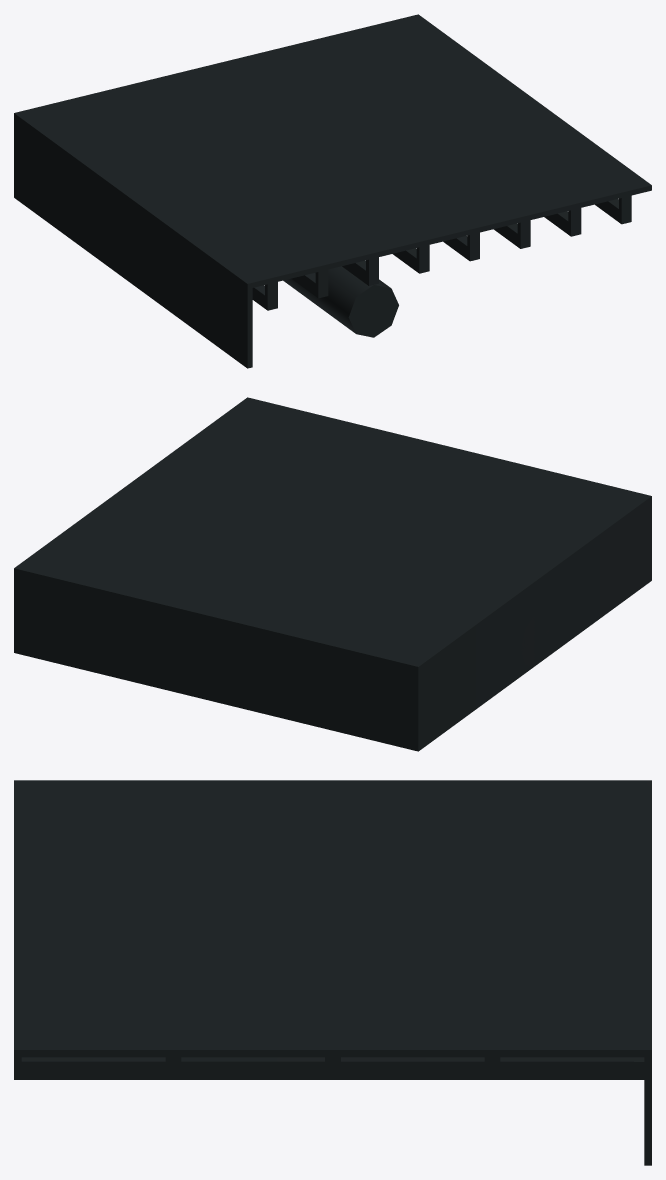
The model's file is Roof_Corner_Alt.glb.
The picture shows the model from 3 angles, top to bottom: view 1: azimuth 30°, elevation 25°; view 2: azimuth 150°, elevation 25°; view 3: azimuth 270°, elevation 25°; orthographic projection. The views are drawn at different scales.
Parts seen in each view (by area): view 1: Roof_Corner_Alt; view 2: Roof_Corner_Alt; view 3: Roof_Corner_Alt.
Boxes of the visible parts, x1,y1,x2,y2 form: Roof_Corner_Alt: [14, 14, 651, 368]; Roof_Corner_Alt: [14, 397, 651, 751]; Roof_Corner_Alt: [14, 780, 651, 1165].
Bounding box in the file's own units: 8 × 2.21 × 8.
1 material, 1 textured.
